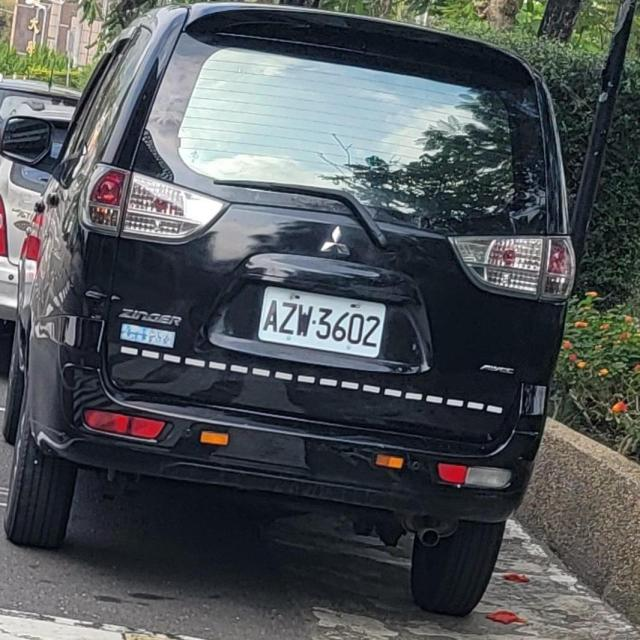W: (254, 283, 388, 359)
